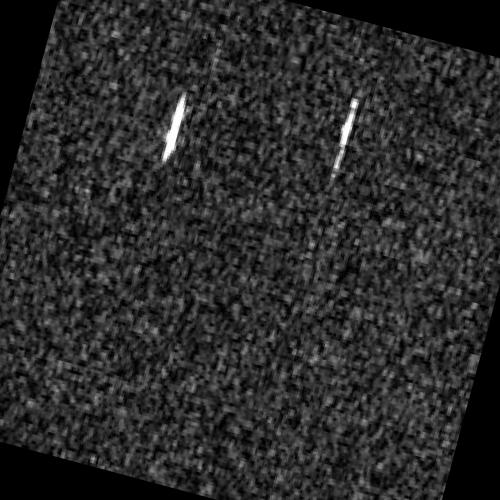ship: (161, 90, 189, 165), (333, 97, 360, 170)
